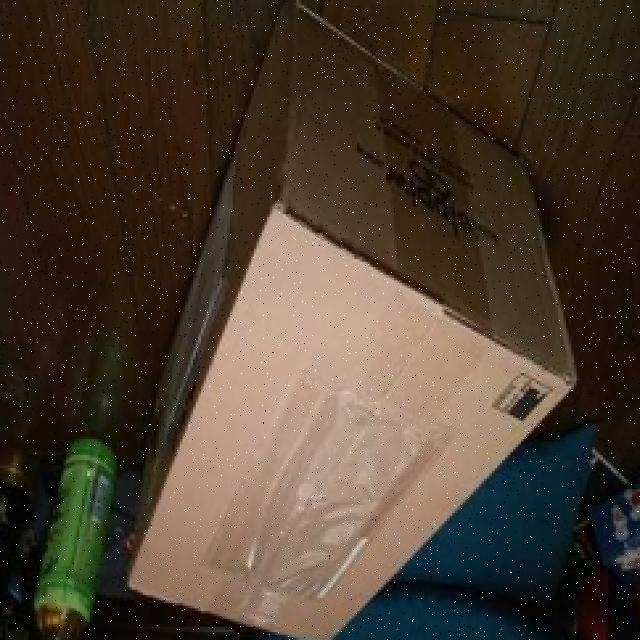box: (76, 5, 601, 635)
